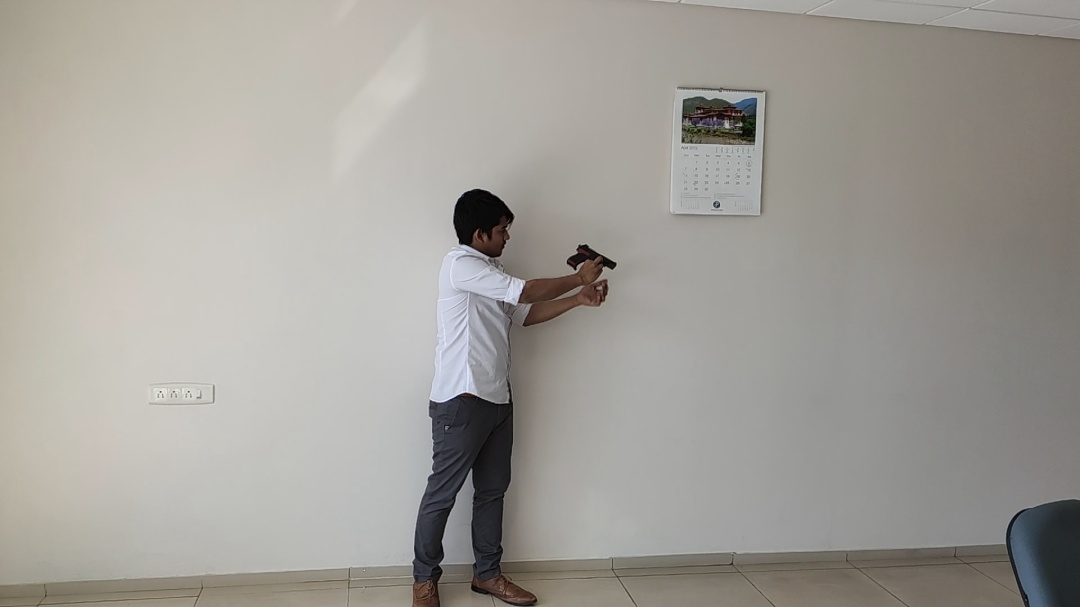gun: (567, 244, 617, 270)
